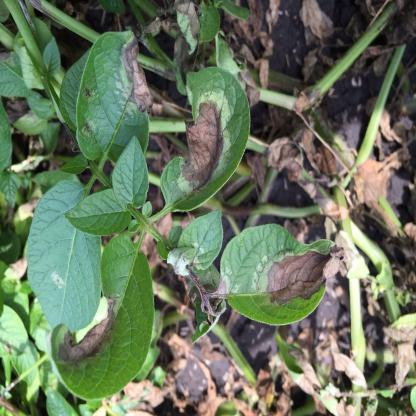Potato leaf late blight: (49, 232, 148, 405), (157, 67, 253, 217), (218, 223, 344, 328), (78, 21, 152, 176)
